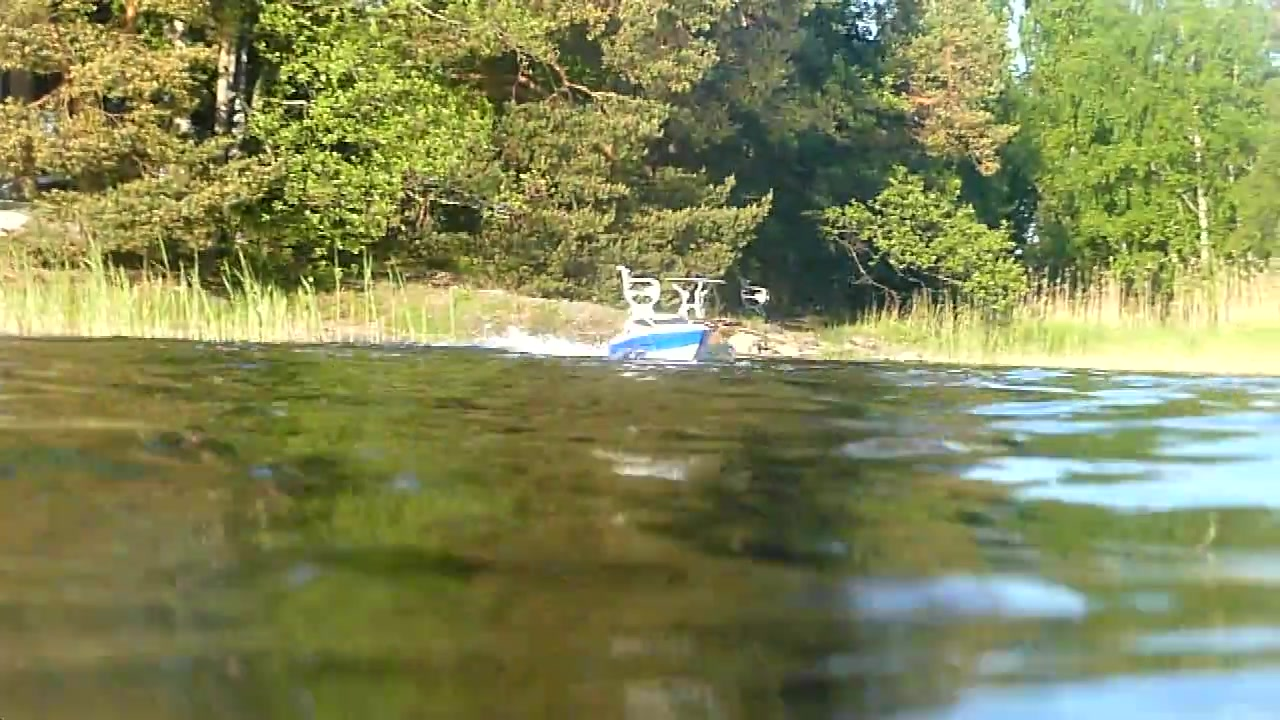boat: (612, 310, 708, 374)
